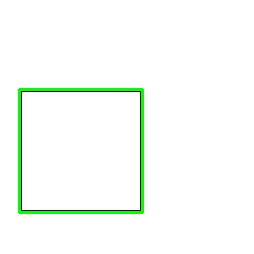line_segment: (18, 88, 144, 214)
